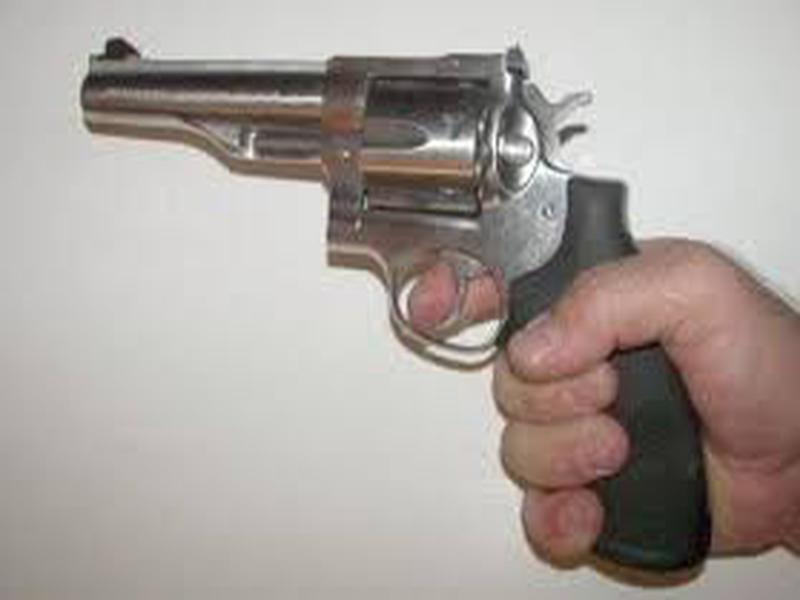gun: (73, 28, 797, 577)
